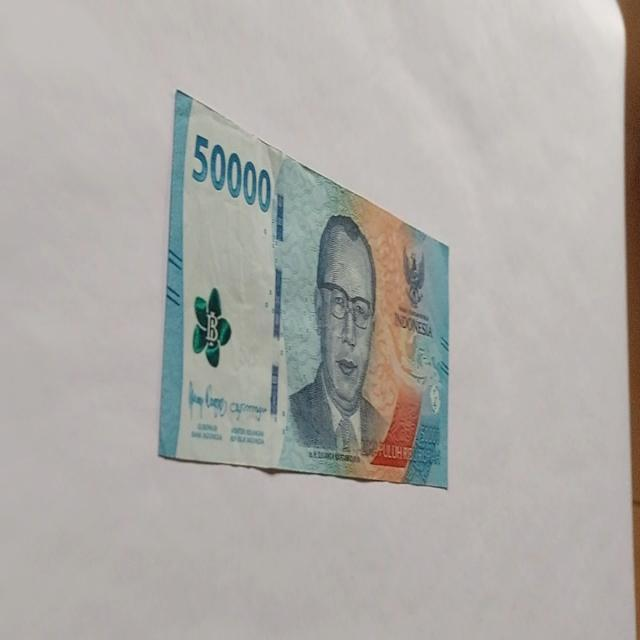lima puluh ribu rupiah: (157, 88, 451, 489), (284, 210, 392, 468), (190, 130, 272, 214)
